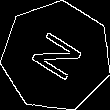N_SE: (24, 26, 89, 87)
